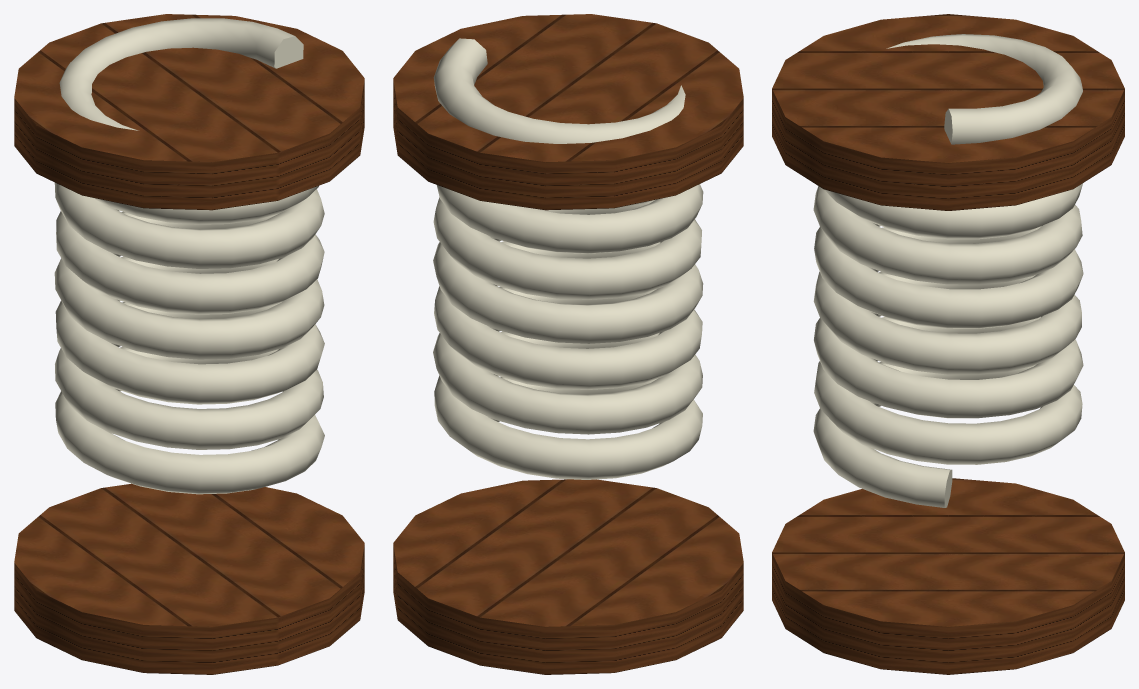
Rendered from scavengers-loot-library-sewing-spool-d9bb623d__2677.glb.
3 views of the same model, side by side, from view 1: azimuth 30°, elevation 25°; view 2: azimuth 150°, elevation 25°; view 3: azimuth 270°, elevation 25° (orthographic).
Parts seen in each view (by area): view 1: sewing-spool; view 2: sewing-spool; view 3: sewing-spool.
Boxes of the visible parts, <box> form: sewing-spool: <box>14,14,364,674</box>; sewing-spool: <box>393,14,743,674</box>; sewing-spool: <box>772,14,1124,674</box>.
Bounding box in the file's own units: 0.04 × 0.0672 × 0.04.
Materials: 2 (1 with a texture image).
